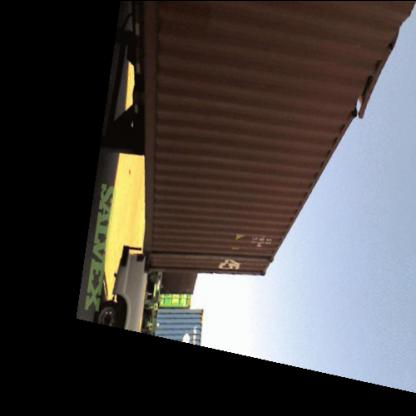Damage: (342, 28, 404, 130), (144, 246, 278, 278)
